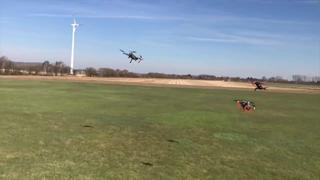UAV: (119, 49, 144, 64), (233, 100, 256, 114), (252, 81, 268, 92)
